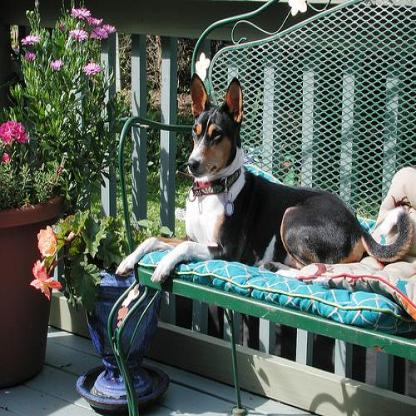basenji: (113, 68, 414, 294)
